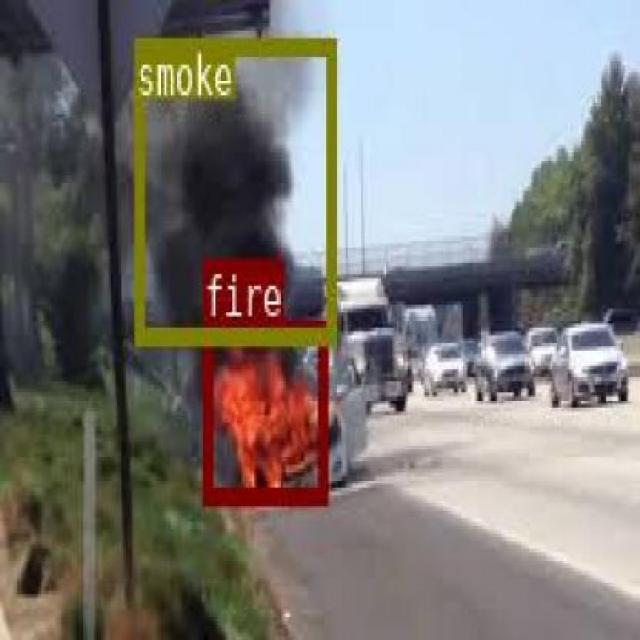fire: (202, 317, 324, 500)
smoke: (133, 36, 333, 342)
